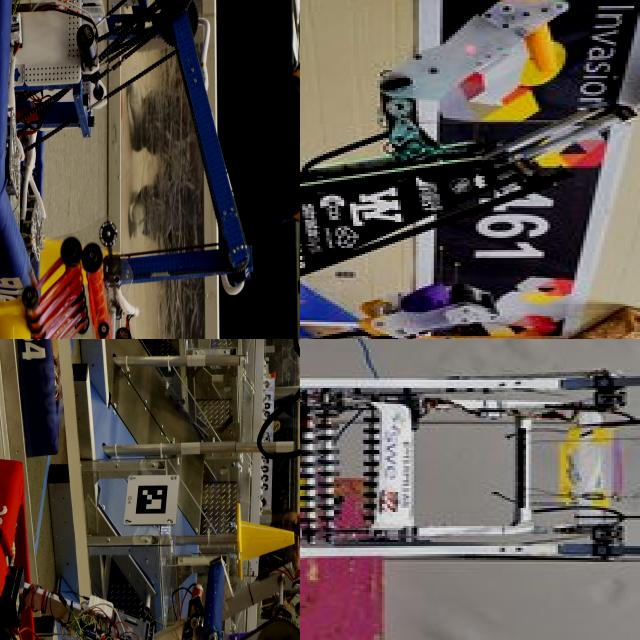FRC-Robots: (300, 339, 640, 640), (300, 39, 640, 339), (0, 0, 262, 339), (0, 428, 243, 640), (10, 339, 300, 492)
